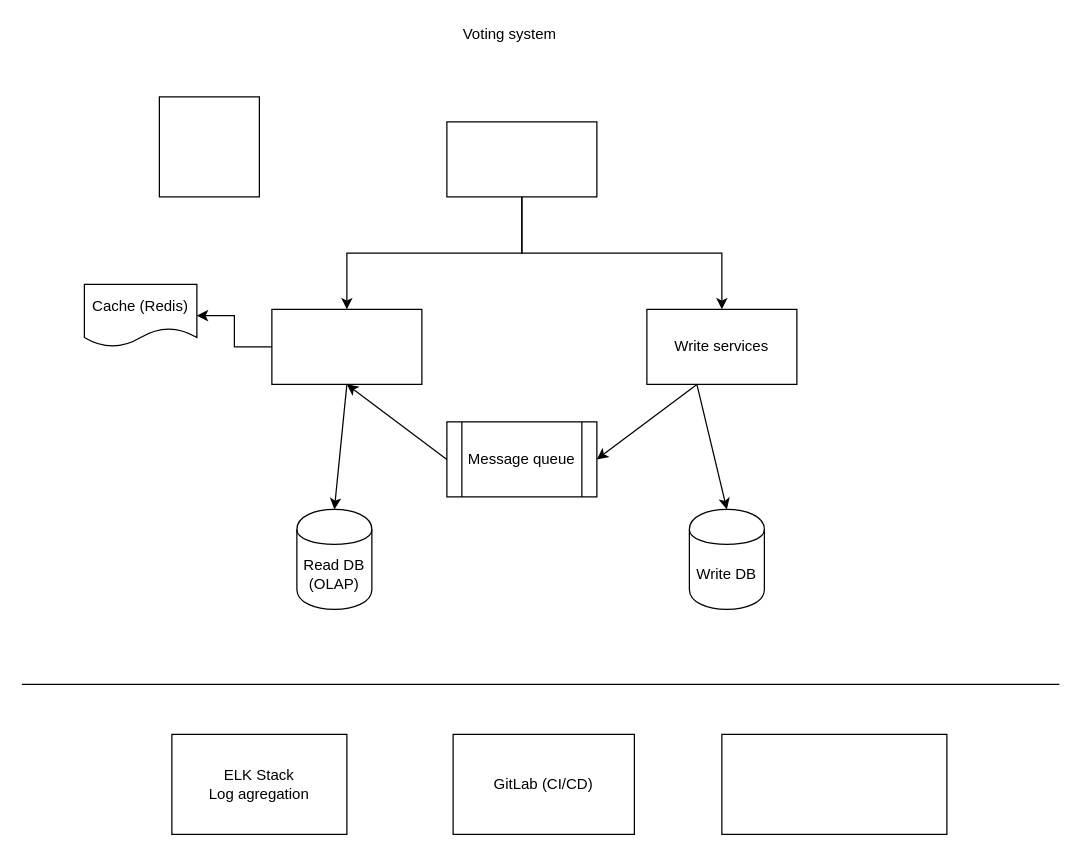
Some shapes in this 1083 by 856 pixel diagram are drawn without their labels. Each missing label, with the box of its shape:
Frontend + Nginx gateway: (446, 121, 597, 197)
OIDC Provider: (158, 96, 259, 197)
Prometheus + Grafana (Metrics aggregation and visualisation): (721, 733, 947, 834)
Read services: (271, 308, 422, 384)
